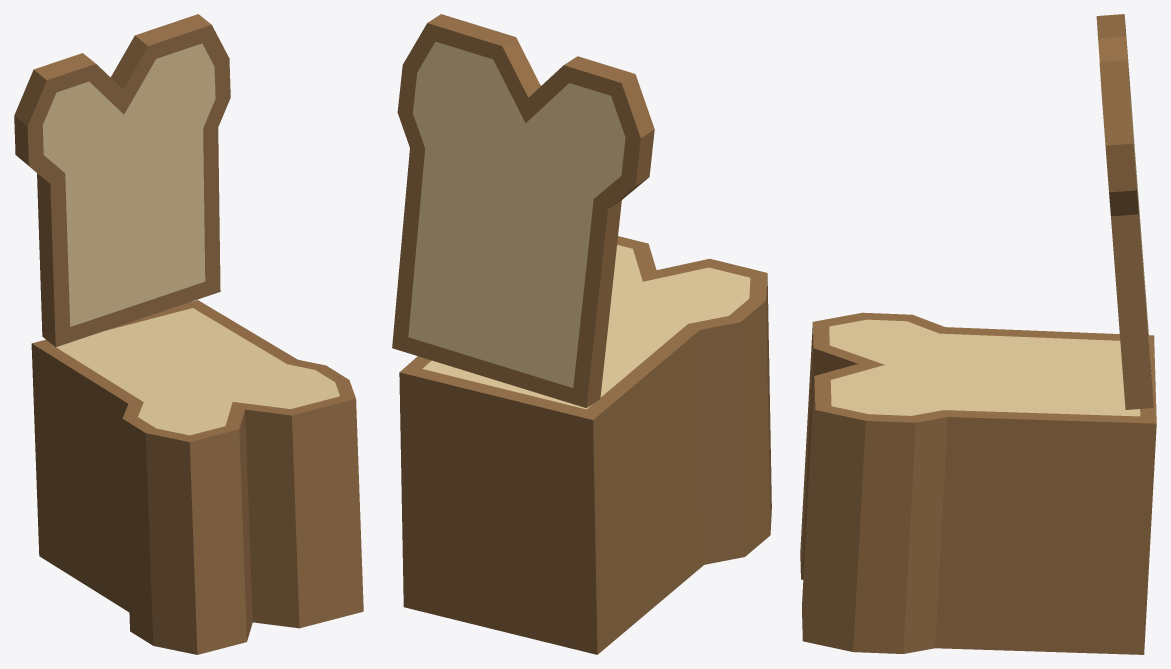
The picture shows the model from 3 angles, left to right: view 1: azimuth 30°, elevation 25°; view 2: azimuth 150°, elevation 25°; view 3: azimuth 270°, elevation 25°; orthographic projection. The views are drawn at different scales.
Parts seen in each view (by area): view 1: loaf of bread; view 2: loaf of bread; view 3: loaf of bread.
Part boxes in pixels (x1,y1,x2,y2): loaf of bread: (14, 14, 363, 654); loaf of bread: (392, 14, 771, 654); loaf of bread: (800, 14, 1156, 654).
Size of the model in its own units: 42.01 by 93.56 by 53.97.
